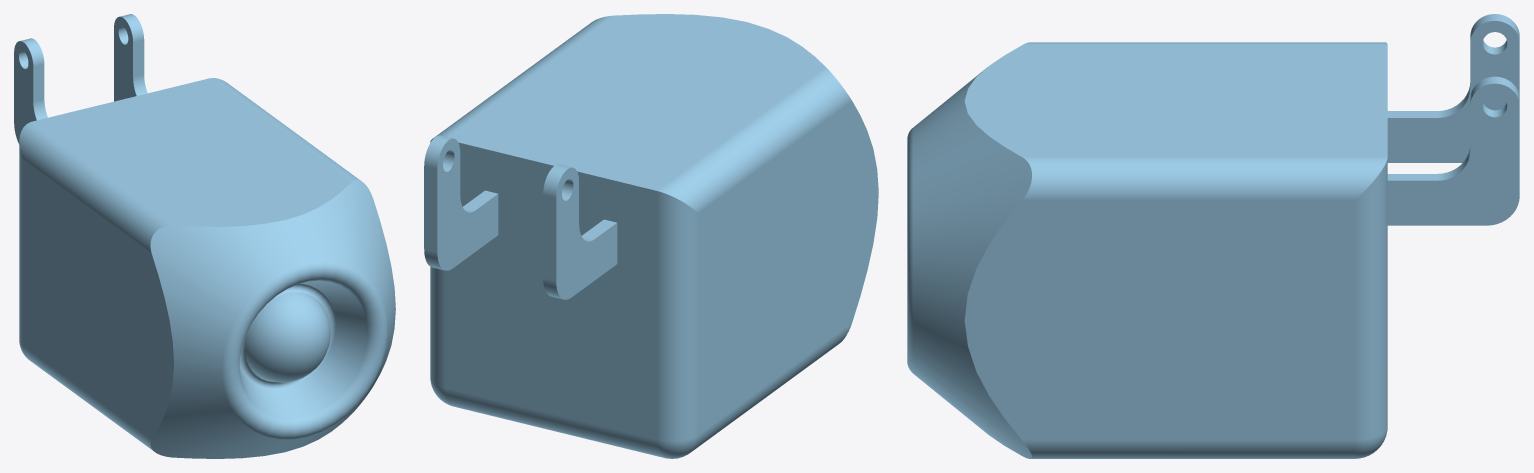
The model's file is Camera_body.dae.
3 renders of one model, left to right at view 1: azimuth 30°, elevation 25°; view 2: azimuth 150°, elevation 25°; view 3: azimuth 270°, elevation 25°, orthographic. The views are drawn at different scales.
Visible parts, largest first — view 1: ID2; view 2: ID2; view 3: ID2.
Part boxes in pixels (bbox=[...]): ID2: bbox=[14, 14, 395, 458]; ID2: bbox=[424, 14, 878, 458]; ID2: bbox=[907, 14, 1519, 458].
Size of the model in its own units: 0.01 by 0.0186 by 0.0117.
